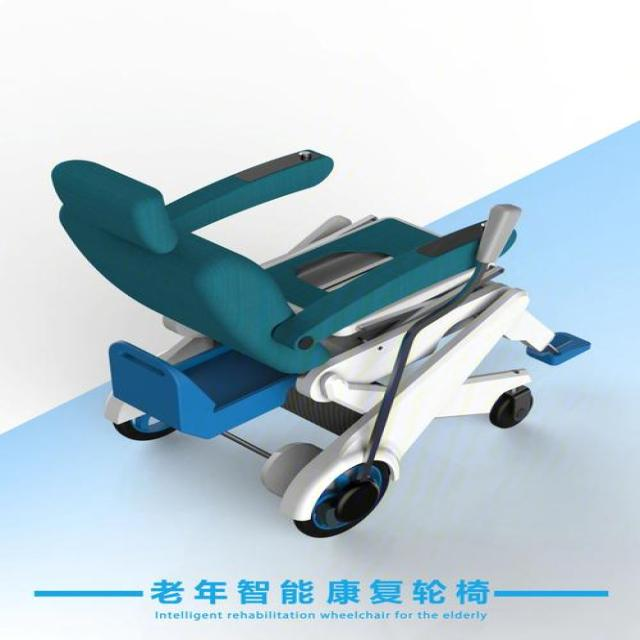wheelchairs: (41, 140, 612, 547)
